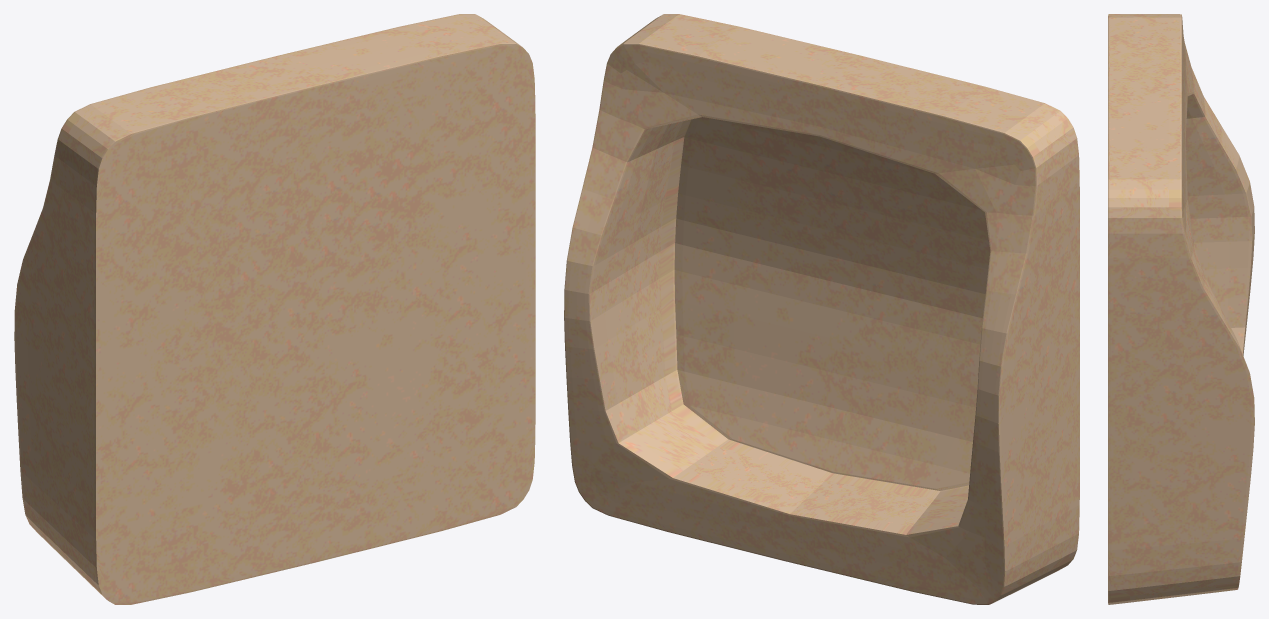
File: porta_papel higienico.fbx
3 renders of one model, left to right at view 1: azimuth 30°, elevation 25°; view 2: azimuth 150°, elevation 25°; view 3: azimuth 270°, elevation 25°, orthographic. The views are drawn at different scales.
Visible parts, largest first — view 1: coso del papel; view 2: coso del papel; view 3: coso del papel.
Boxes of the visible parts, box(x1,y1,x2,y2) form: coso del papel: box(14, 14, 535, 604); coso del papel: box(564, 14, 1079, 604); coso del papel: box(1108, 14, 1254, 604).
Size of the model in its own units: 15 by 15.52 by 4.84.
